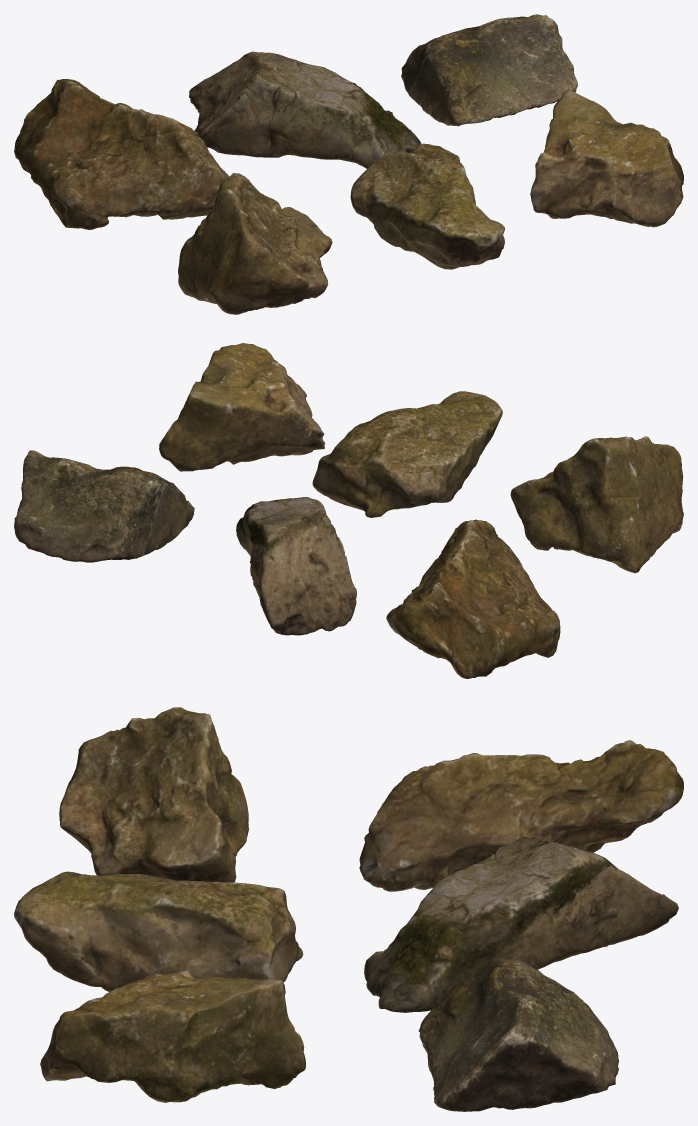
File: rocks.glb
The picture shows the model from 3 angles, top to bottom: view 1: azimuth 30°, elevation 25°; view 2: azimuth 150°, elevation 25°; view 3: azimuth 270°, elevation 25°; orthographic projection. The views are drawn at different scales.
Visible parts, largest first — view 1: rock_moss_set_01_rock01, rock_moss_set_01_rock02, rock_moss_set_01_rock06, rock_moss_set_01_rock04, rock_moss_set_01_rock03, rock_moss_set_01_rock05; view 2: rock_moss_set_01_rock04, rock_moss_set_01_rock01, rock_moss_set_01_rock05, rock_moss_set_01_rock03, rock_moss_set_01_rock06, rock_moss_set_01_rock02; view 3: rock_moss_set_01_rock01, rock_moss_set_01_rock02, rock_moss_set_01_rock05, rock_moss_set_01_rock06, rock_moss_set_01_rock04, rock_moss_set_01_rock03.
Boxes of the visible parts, x1,y1,x2,y2 form: rock_moss_set_01_rock01: (14,79,229,229); rock_moss_set_01_rock02: (189,51,421,168); rock_moss_set_01_rock06: (530,89,683,227); rock_moss_set_01_rock04: (178,173,332,314); rock_moss_set_01_rock03: (401,14,577,126); rock_moss_set_01_rock05: (350,143,504,269); rock_moss_set_01_rock04: (510,436,683,573); rock_moss_set_01_rock01: (386,519,560,678); rock_moss_set_01_rock05: (312,391,502,517); rock_moss_set_01_rock03: (14,450,194,562); rock_moss_set_01_rock06: (159,343,325,471); rock_moss_set_01_rock02: (236,497,356,635); rock_moss_set_01_rock01: (359,740,683,891); rock_moss_set_01_rock02: (364,836,678,1012); rock_moss_set_01_rock05: (14,871,303,991); rock_moss_set_01_rock06: (40,970,305,1102); rock_moss_set_01_rock04: (59,707,248,882); rock_moss_set_01_rock03: (418,956,618,1111).
Size of the model in its own units: 8 by 1.77 by 6.94.
Materials: 1 (1 with a texture image).
